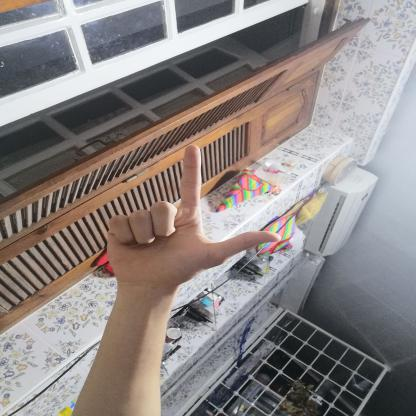LAAM: (83, 133, 295, 308)
